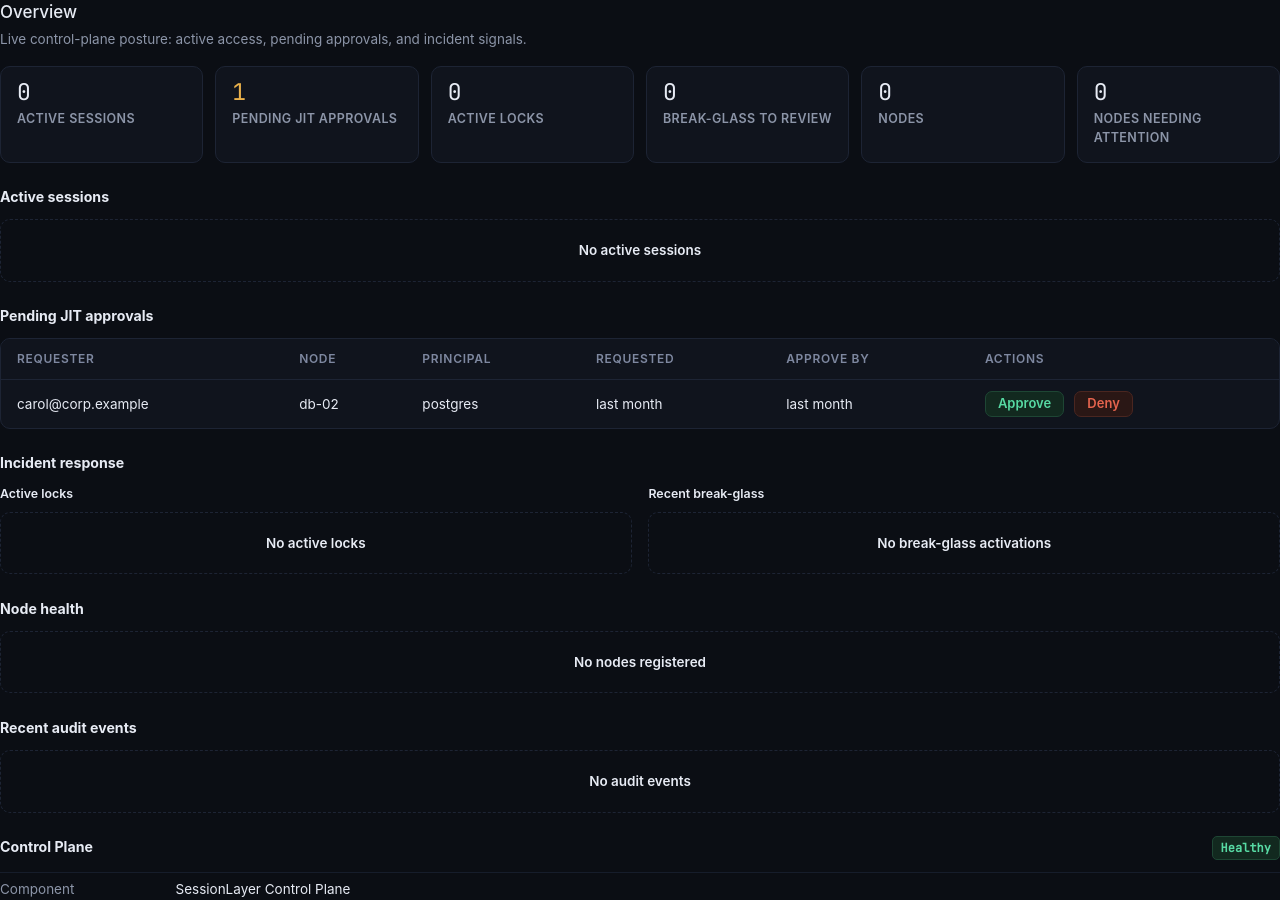
Test: OverviewScreen › approves a pending JIT request inline and closes the dialog on success
This screenshot has width=1280, height=900.
Click the button "Approve".
click(1025, 404)  # box [985, 391, 1064, 416]
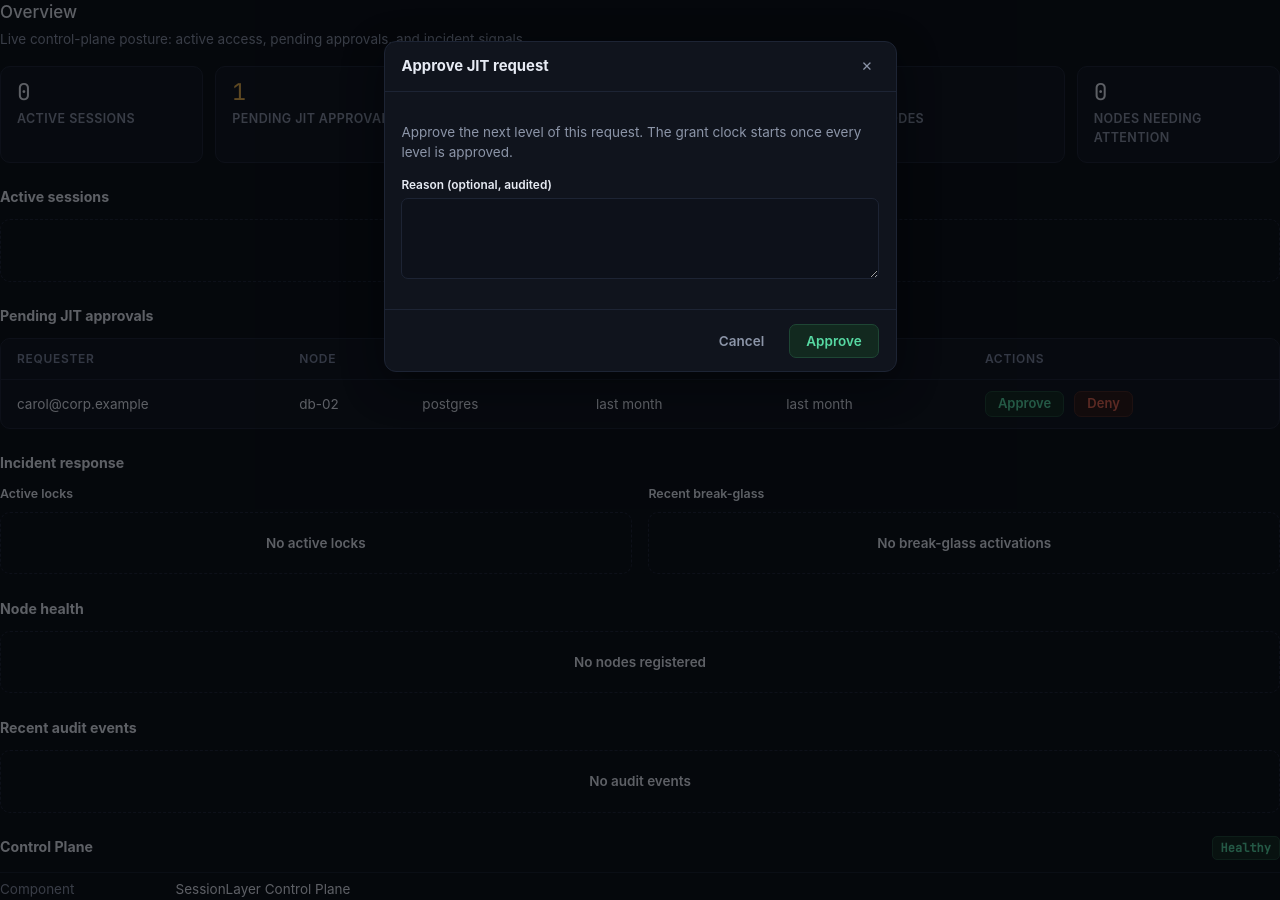
Click the button "Approve".
click(834, 341)  # box [789, 324, 879, 358]
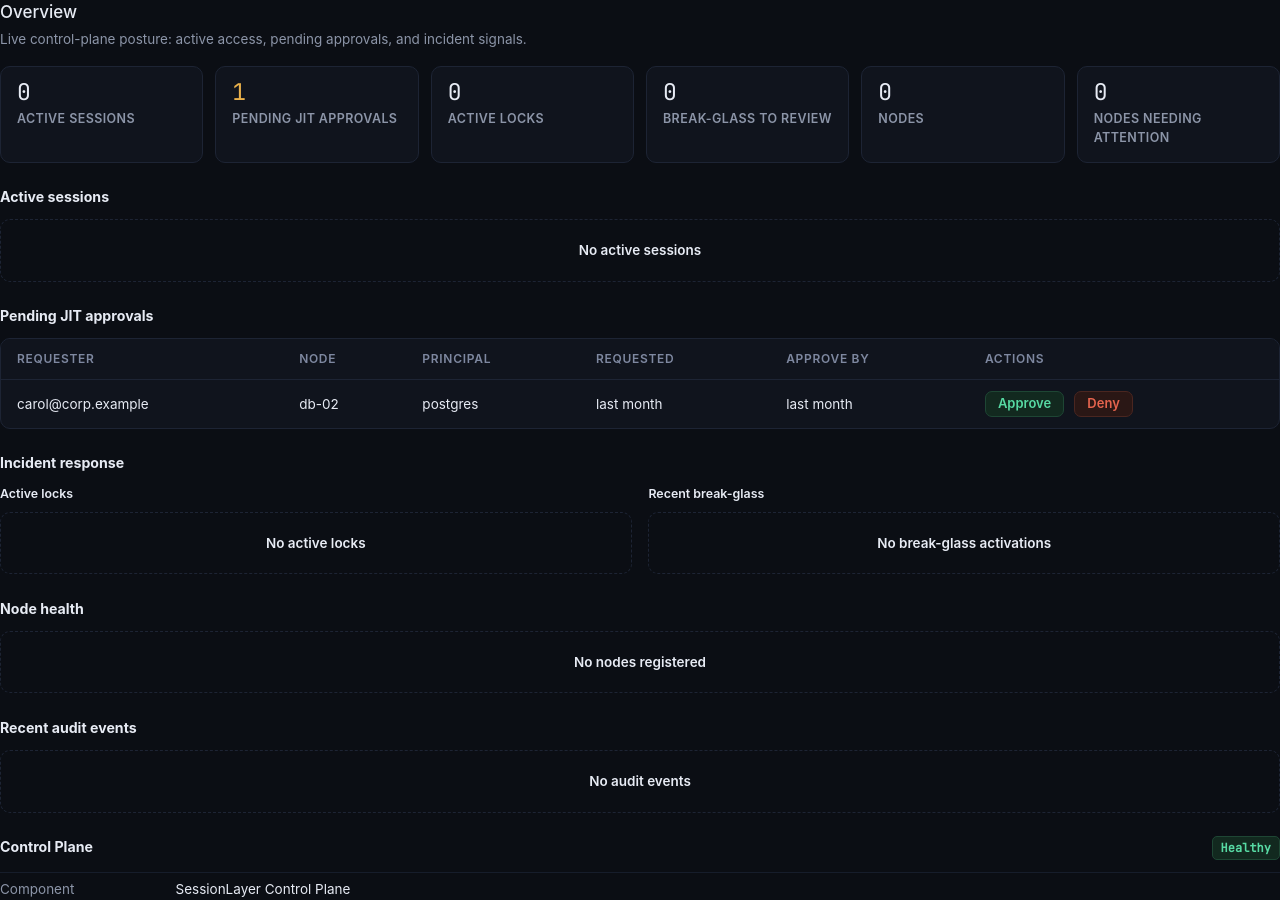
Check: the dialog is gone
